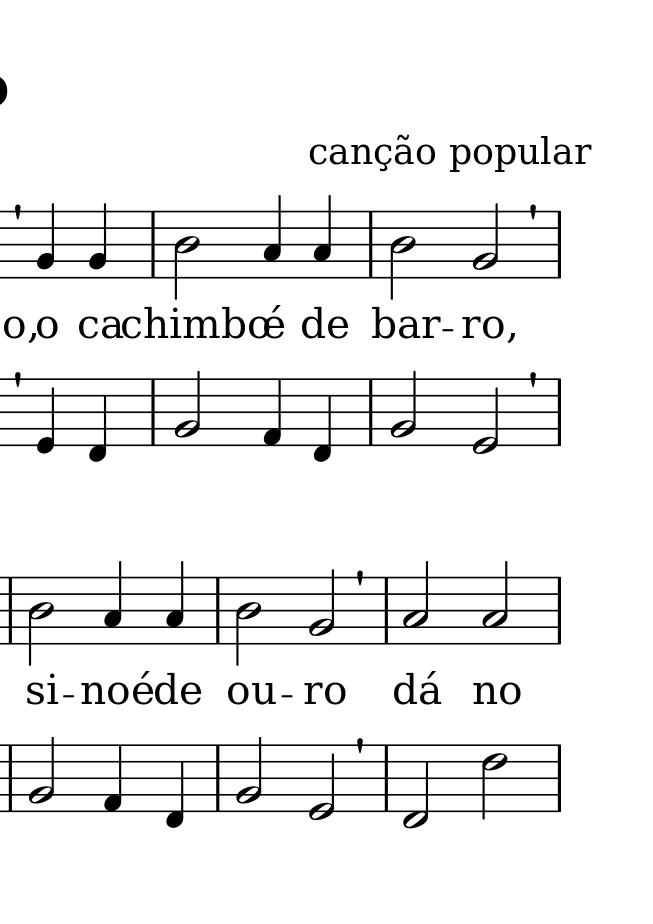2_-1: (403, 743, 430, 830)
2_0: (307, 741, 337, 824), (471, 375, 500, 457)
2_2: (173, 369, 203, 447), (388, 370, 418, 447), (27, 735, 56, 814), (234, 735, 263, 813), (308, 568, 336, 646), (472, 204, 500, 279)
2_3: (401, 563, 432, 645), (481, 562, 509, 643)
2_4: (27, 576, 55, 668), (234, 576, 261, 669), (173, 210, 200, 297), (389, 209, 415, 296)
2_6: (480, 742, 508, 819)
4_-1: (311, 374, 333, 464), (86, 376, 108, 464)
4_0: (35, 378, 57, 456)
4_1: (260, 378, 285, 449)
4_2: (35, 201, 57, 280), (87, 201, 108, 281)
4_3: (164, 561, 187, 645), (311, 195, 333, 280), (102, 558, 123, 643), (262, 196, 283, 279)
8_-1: (162, 741, 187, 830)
8_1: (100, 742, 124, 814)
Single_barline: (551, 745, 567, 811), (210, 743, 226, 809), (551, 579, 567, 644), (552, 211, 567, 278), (552, 379, 567, 446), (363, 211, 378, 276), (210, 578, 225, 643), (146, 212, 161, 275), (379, 577, 393, 644), (146, 380, 160, 446), (379, 745, 393, 811), (364, 384, 379, 445), (2, 747, 16, 810)
